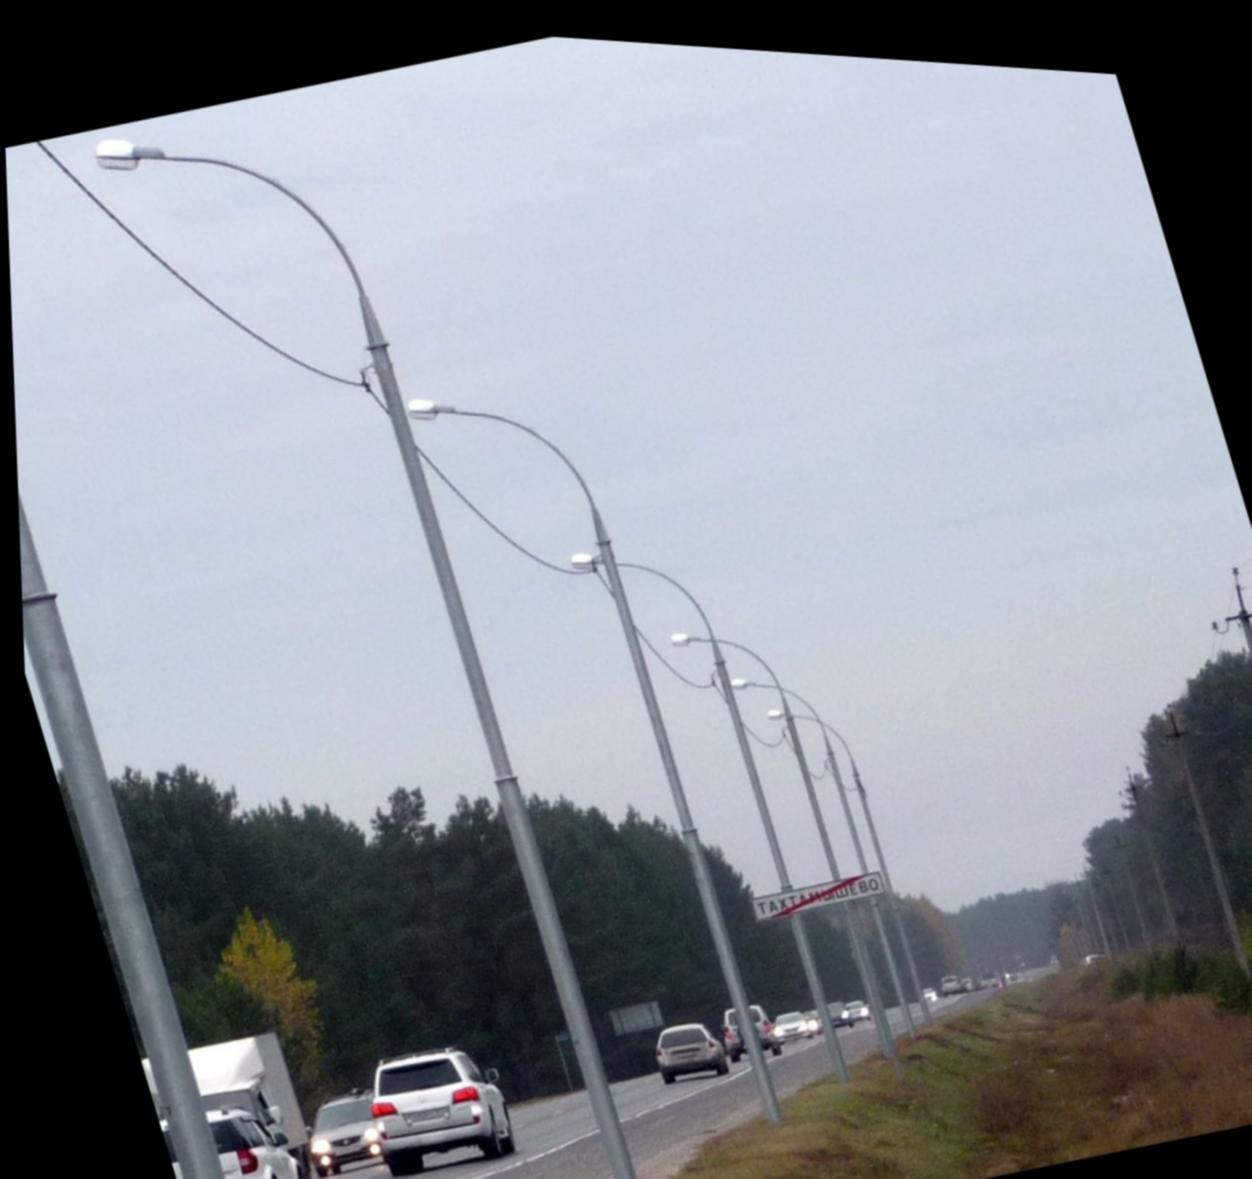Animal: (84, 54, 691, 1179), (392, 306, 823, 1176), (546, 473, 869, 1099), (648, 567, 912, 1074), (717, 615, 943, 1031), (1168, 523, 1252, 1009), (1130, 664, 1252, 961)
